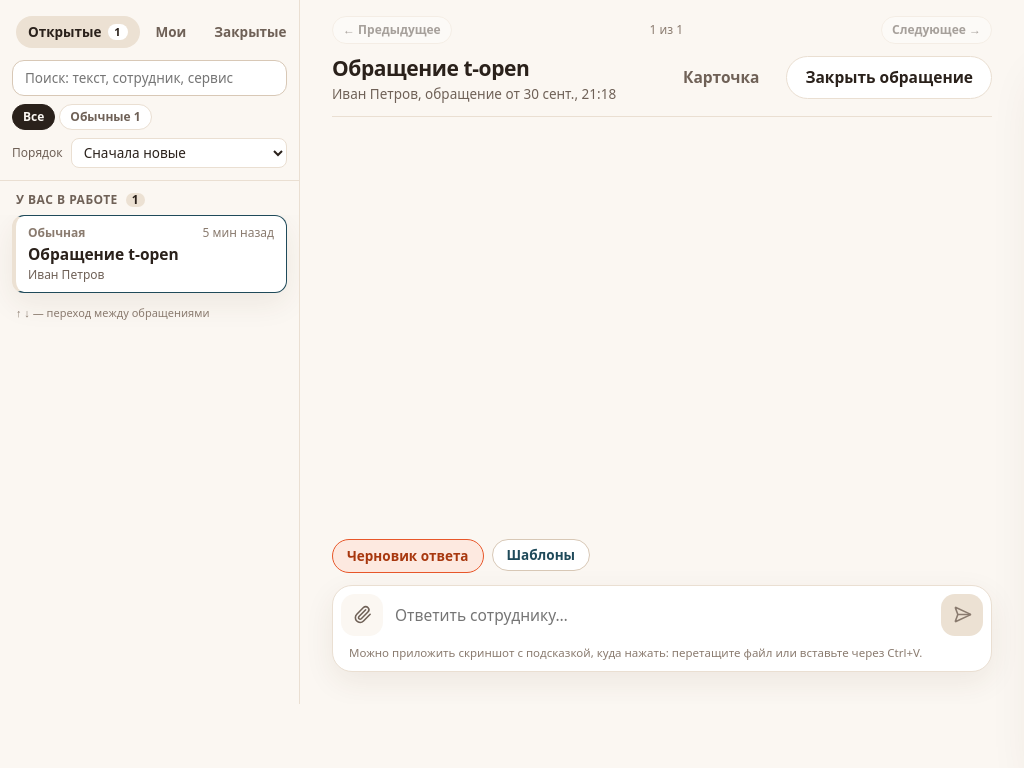
reply templates › inserts a template with the employee's name into the reply without sending it
Click the button "Шаблоны" at [541, 555], box left=492, top=538, right=590, bottom=571
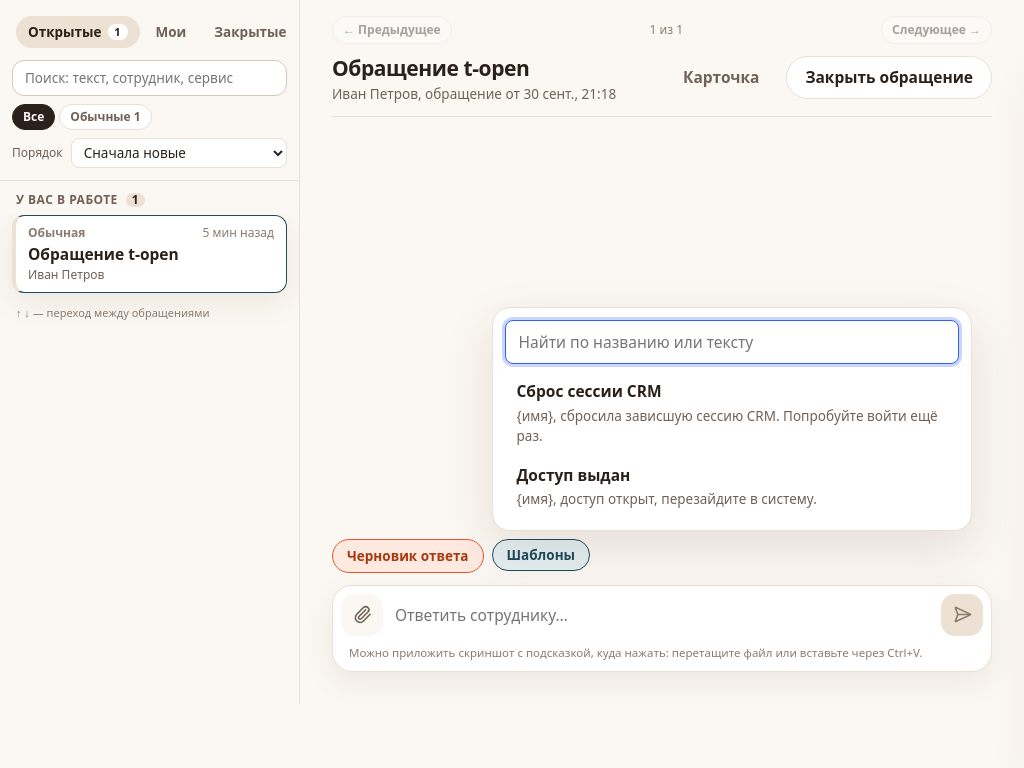
Type "crm" into the search field named "Найти шаблон" at [732, 342], box left=504, top=320, right=958, bottom=364
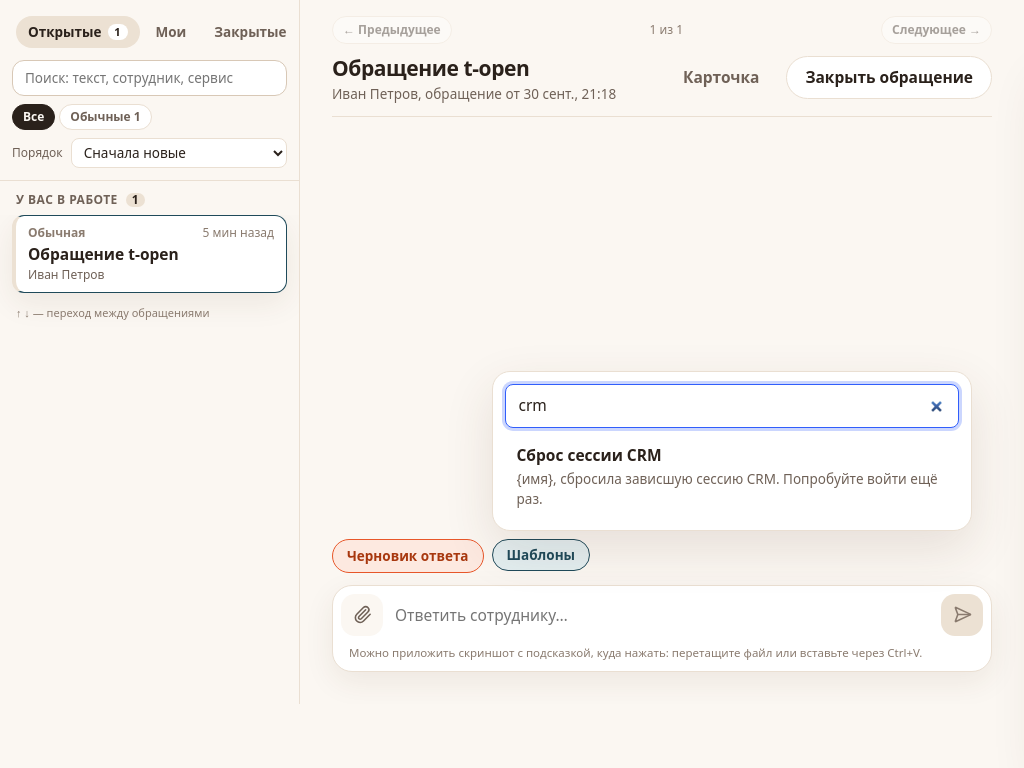
Check: the button "Доступ выдан" is gone
Click the button "Сброс сессии CRM" at [732, 477], box left=504, top=436, right=958, bottom=518
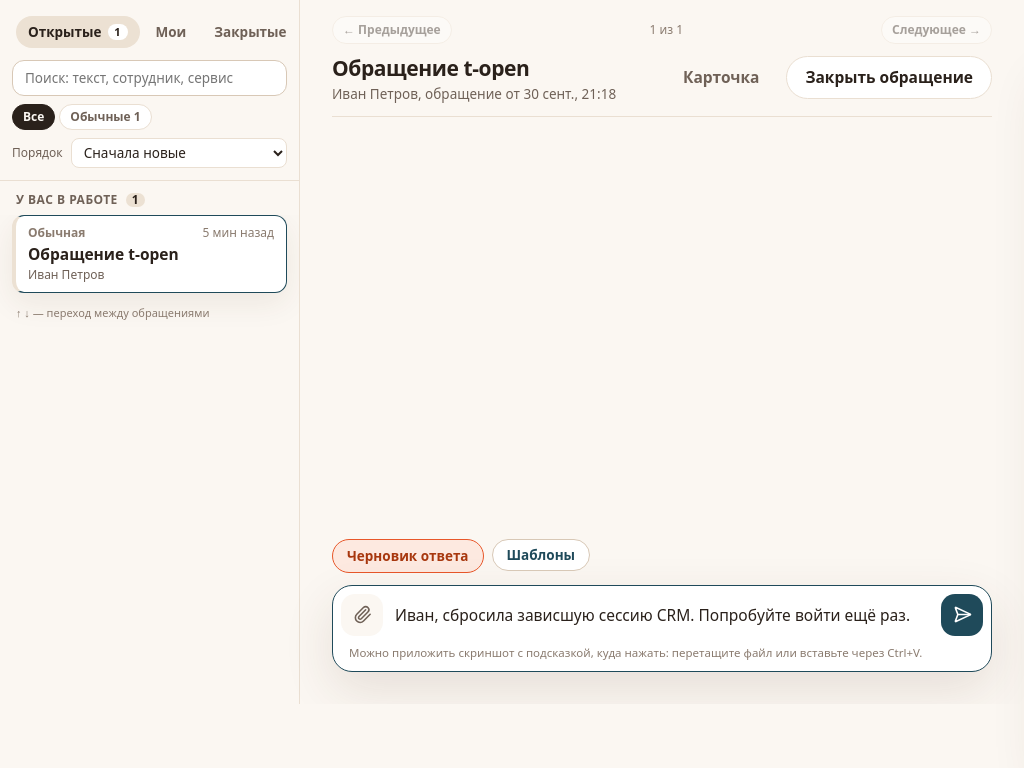
Check: the text box named "Ответ сотруднику" holds "Иван, сбросила зависшую сессию CRM. Попробуйте войти ещё раз.", box left=391, top=594, right=933, bottom=636
